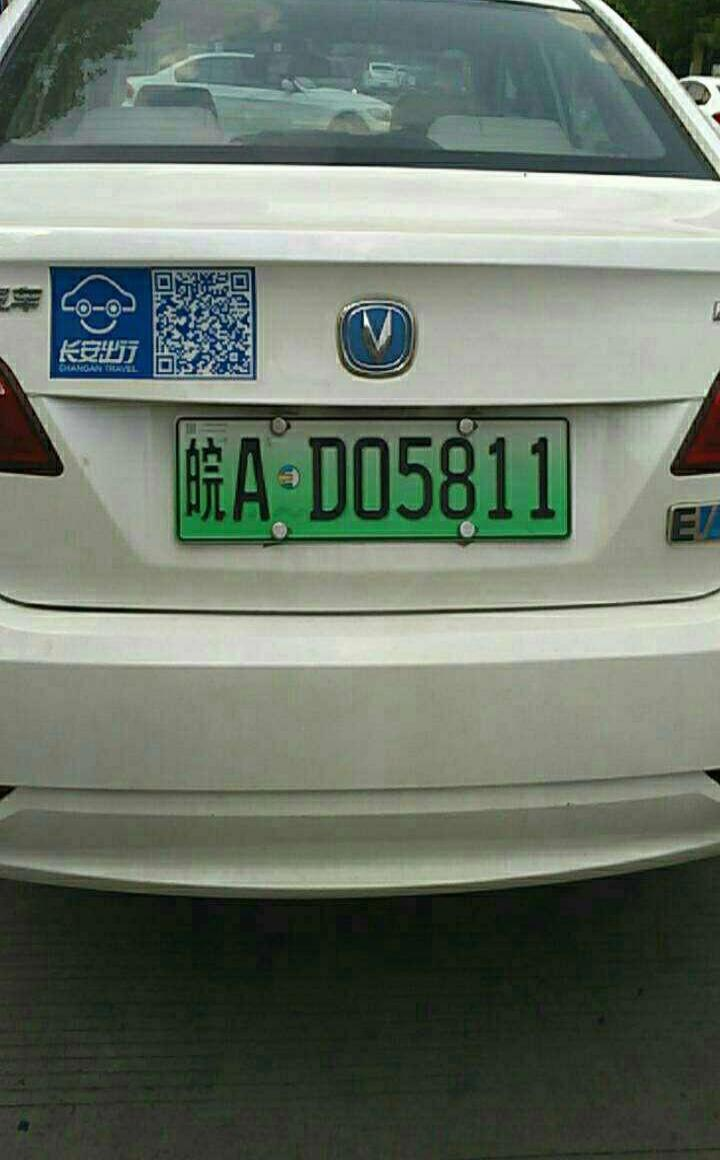car_id: (175, 415, 568, 538)
